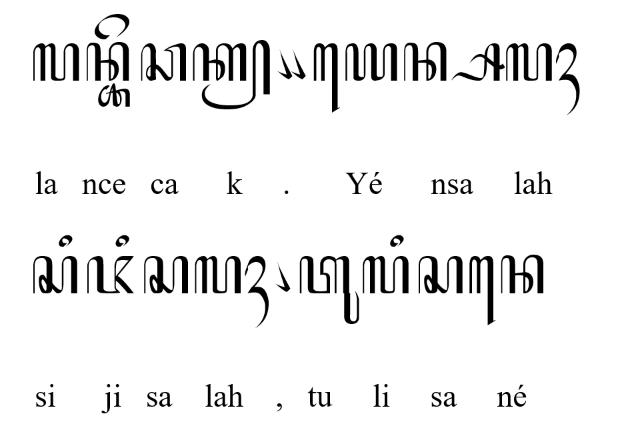-k: (193, 39, 271, 110)
_c: (97, 83, 131, 107)
_h1: (244, 255, 270, 328), (556, 43, 580, 115)
_s: (450, 42, 506, 82)
c: (140, 44, 187, 80)
e: (94, 14, 130, 40)
e1: (468, 255, 496, 325), (313, 42, 339, 114)
i: (59, 234, 73, 247), (115, 234, 129, 247), (390, 235, 404, 247)
j: (86, 256, 134, 294)
kom: (290, 48, 306, 80), (277, 49, 293, 79), (275, 262, 291, 292)
l: (32, 42, 80, 82), (362, 256, 410, 294), (193, 256, 240, 294), (506, 44, 552, 80)
n: (402, 40, 448, 81), (86, 42, 130, 82), (500, 254, 544, 294)
s: (34, 256, 78, 294), (144, 256, 188, 294), (418, 256, 462, 294)
tu: (299, 256, 359, 324)
y: (344, 43, 398, 81)
